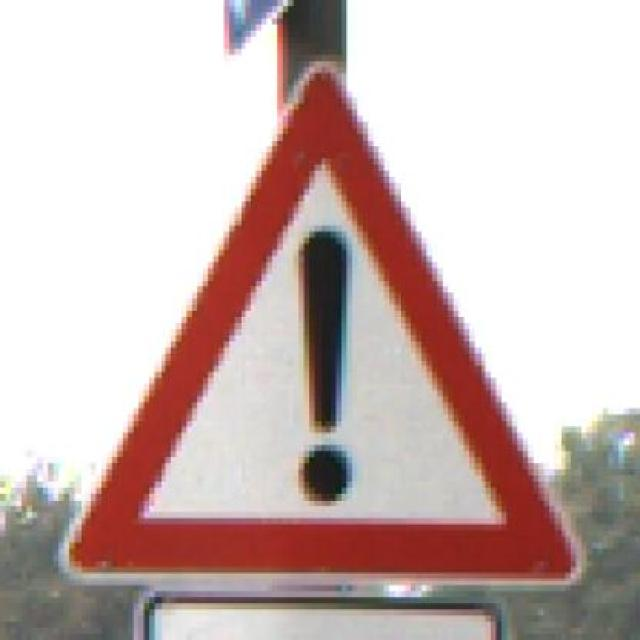Attention Please-: (58, 60, 597, 598)
